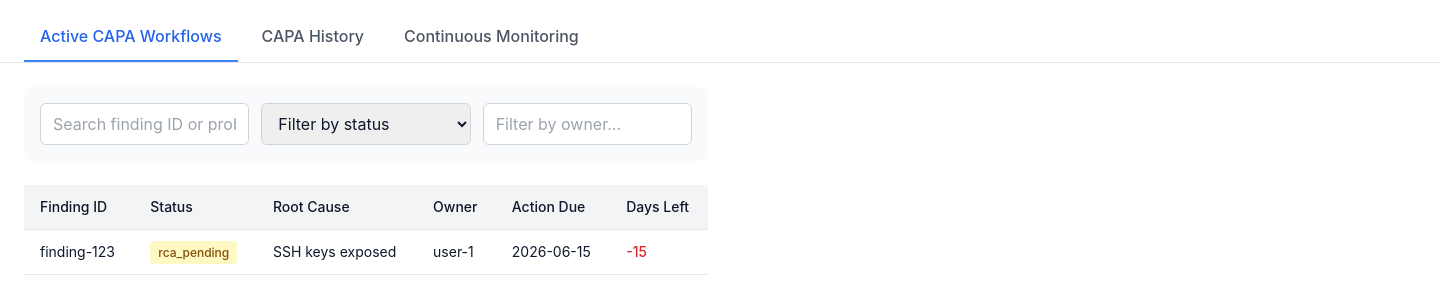
Scenario: CapaAndMonitoringTab › Empty States › should handle empty CAPA list on History tab
Click the button "CAPA History": (313, 37) [246,12,380,62]
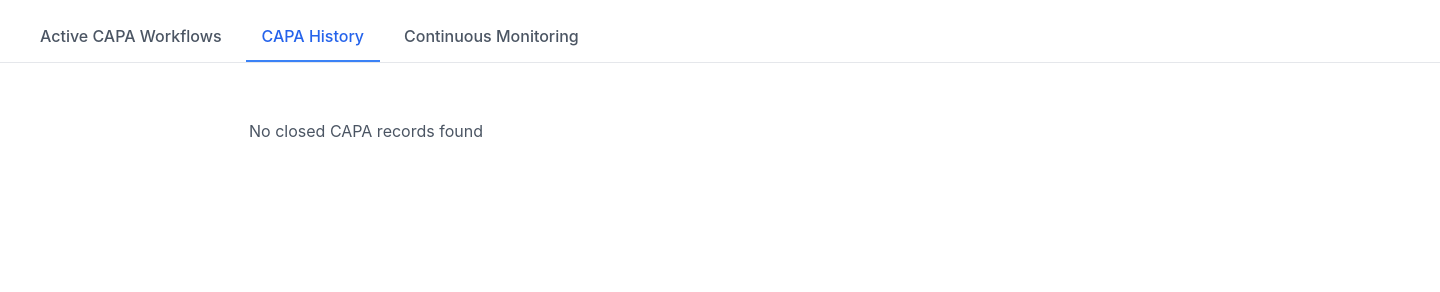
Result: the text "No closed CAPA records found" is shown at [249,121,483,141]
